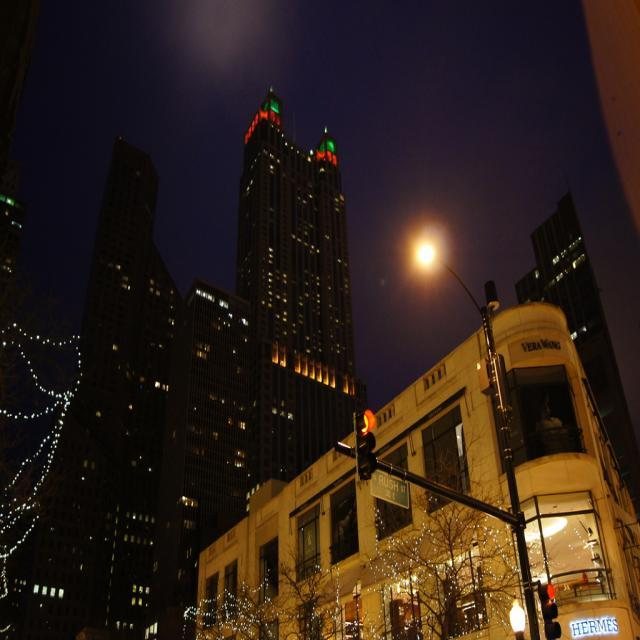traffic light: (354, 411, 380, 480)
